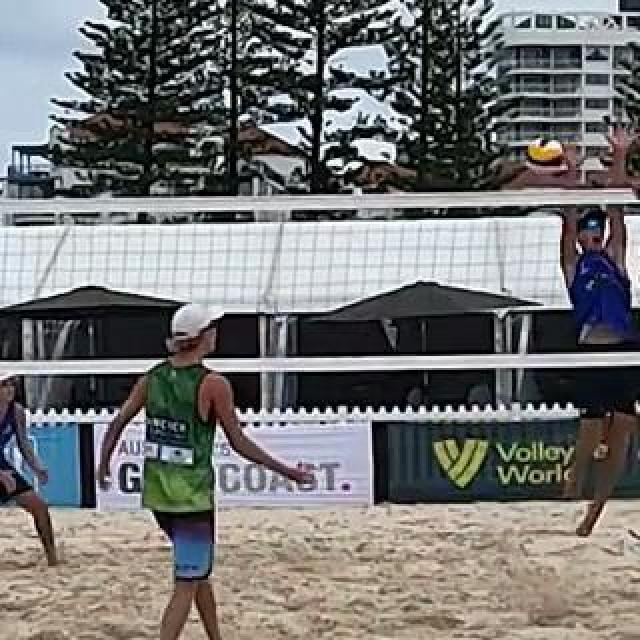volleyball: (528, 136, 562, 168)
